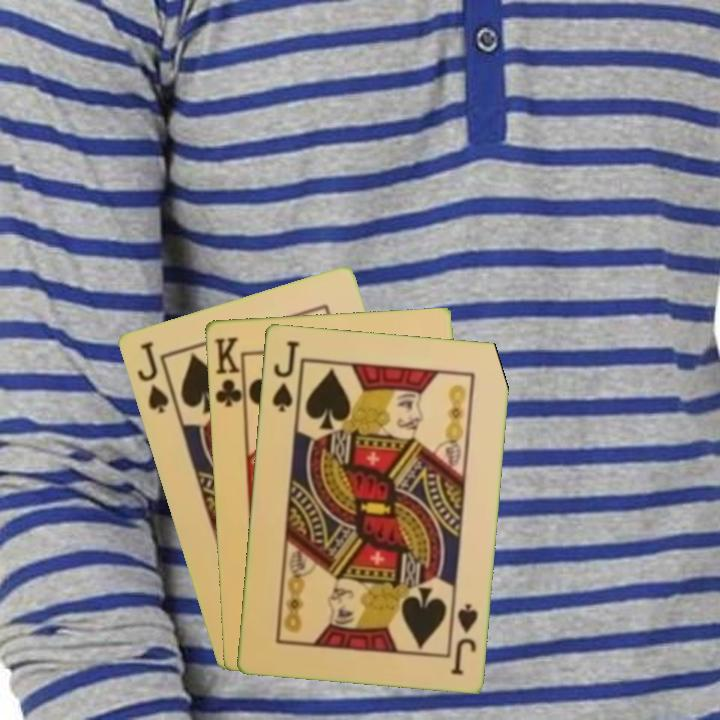Js: (133, 337, 171, 416), (446, 600, 481, 678), (268, 337, 302, 415)
Kc: (211, 332, 247, 412)
